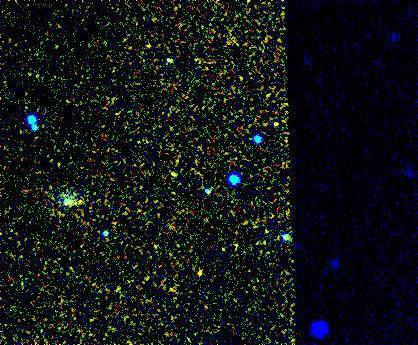star: (185, 258, 215, 288)
